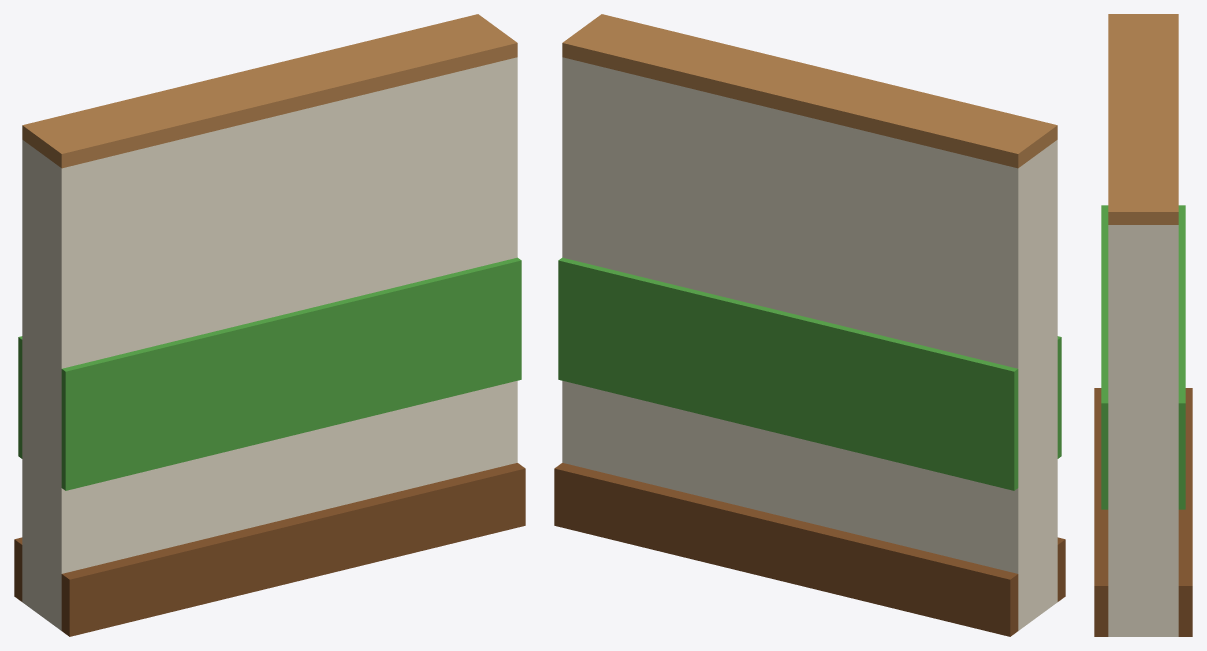
File: partition-full.glb
The picture shows the model from 3 angles, left to right: view 1: azimuth 30°, elevation 25°; view 2: azimuth 150°, elevation 25°; view 3: azimuth 270°, elevation 25°; orthographic projection. The views are drawn at different scales.
Visible parts, largest first — view 1: partition-full; view 2: partition-full; view 3: partition-full.
Part boxes in pixels (<box>): partition-full: <box>14,14,525,636</box>; partition-full: <box>554,14,1065,636</box>; partition-full: <box>1094,14,1192,636</box>.
Bounding box in the file's own units: 1 × 1 × 0.21.
1 material, 1 textured.
